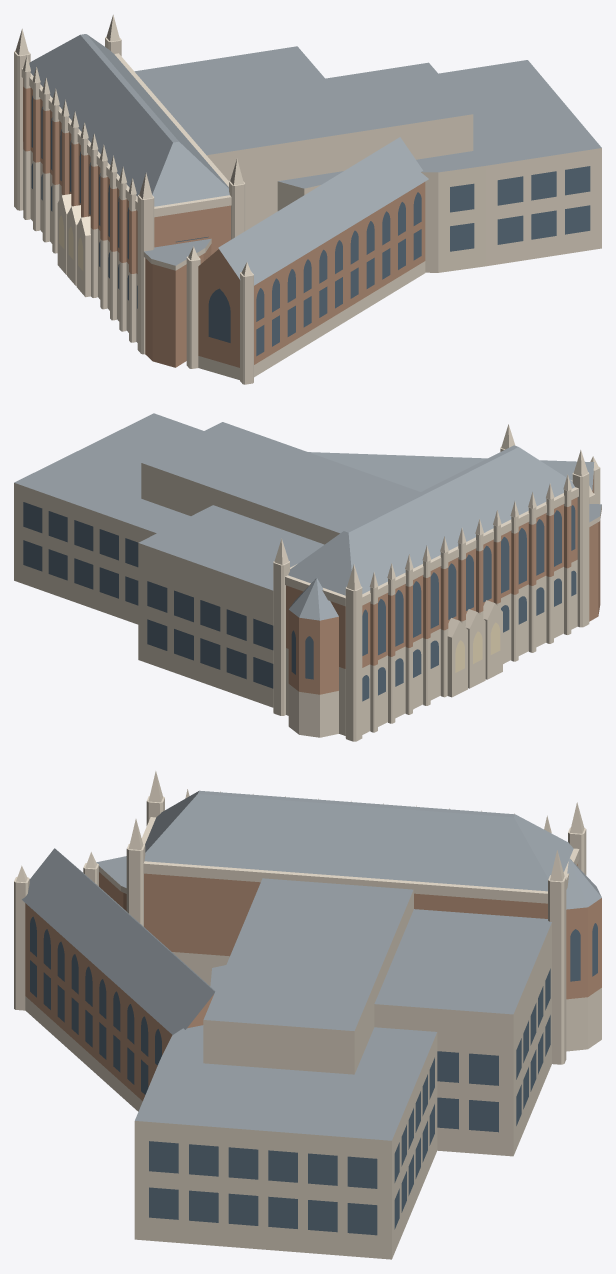
3 views of the same model, one above another, from view 1: azimuth 30°, elevation 25°; view 2: azimuth 150°, elevation 25°; view 3: azimuth 270°, elevation 25° (orthographic). The views are drawn at different scales.
Parts seen in each view (by area): view 1: suzzallo-library; view 2: suzzallo-library; view 3: suzzallo-library.
Boxes of the visible parts, x1,y1,x2,y2 form: suzzallo-library: (14,15,601,384); suzzallo-library: (14,413,601,741); suzzallo-library: (14,771,601,1259).
Bounding box in the file's own units: 104 × 37.5 × 91.96.
